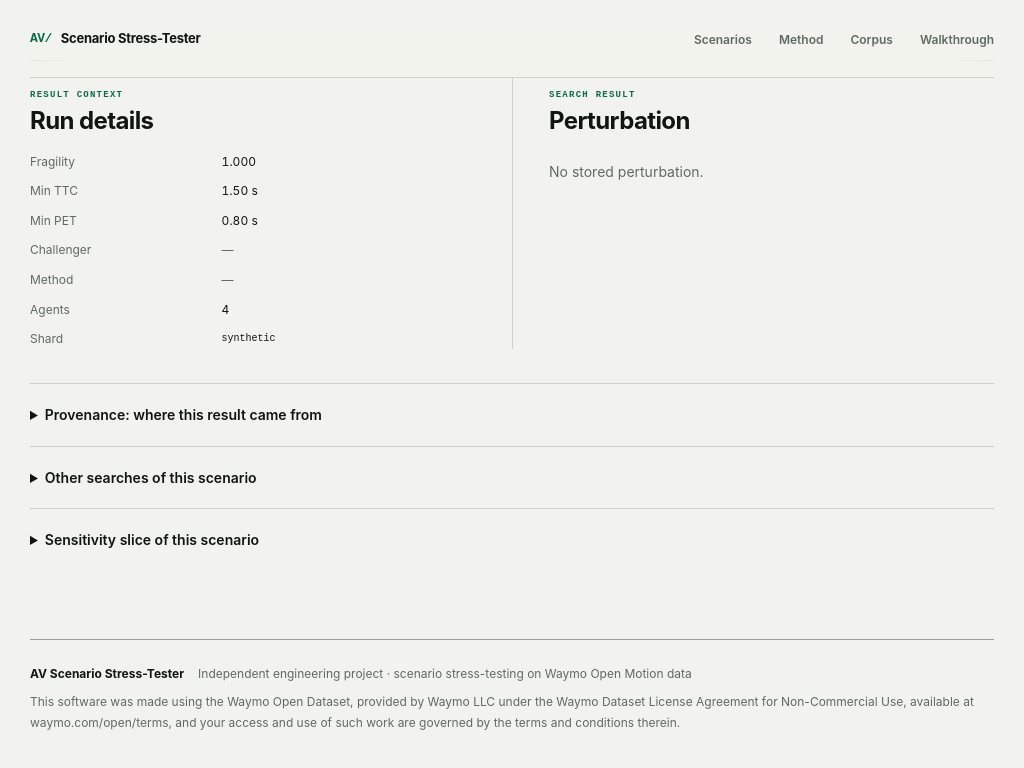
Test case: asking for the trace › does not ask for a result that has no run id
This screenshot has width=1024, height=768.
(page scrolled)
What coordinates should you click on to do the following:
click the heading "Provenance: where this result came from"
I would click on:
 (183, 414)
Its box is [45,406,322,423].
(page scrolled)
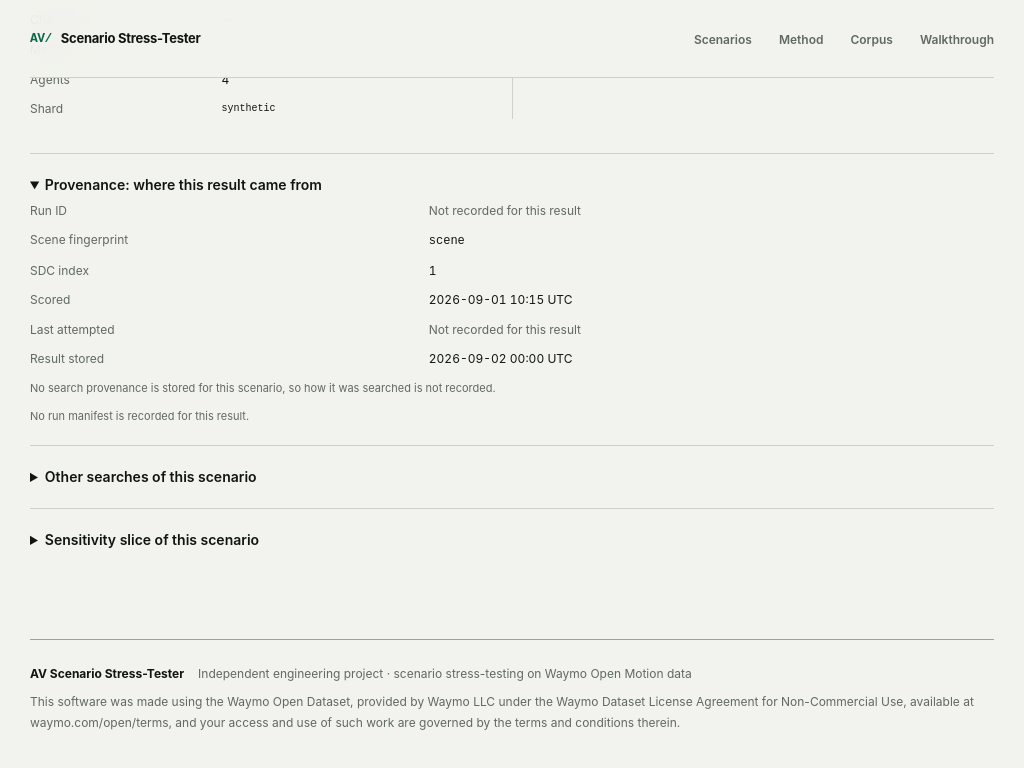
expect the text "No search provenance is stored for this scenario, so how it was searched is not recorded." is shown: met, box [30,381,496,395]
